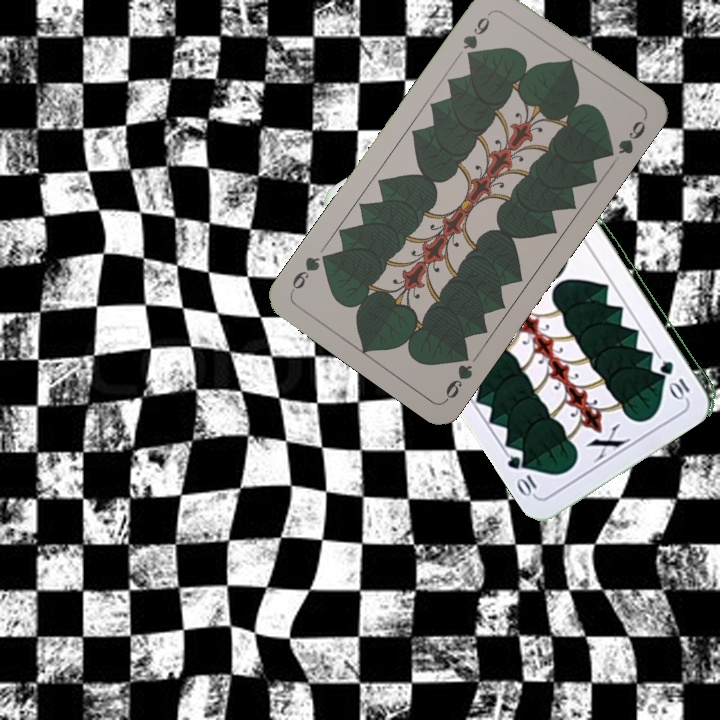G10: (658, 356, 693, 402)
G9: (458, 6, 496, 63), (441, 345, 475, 403)
